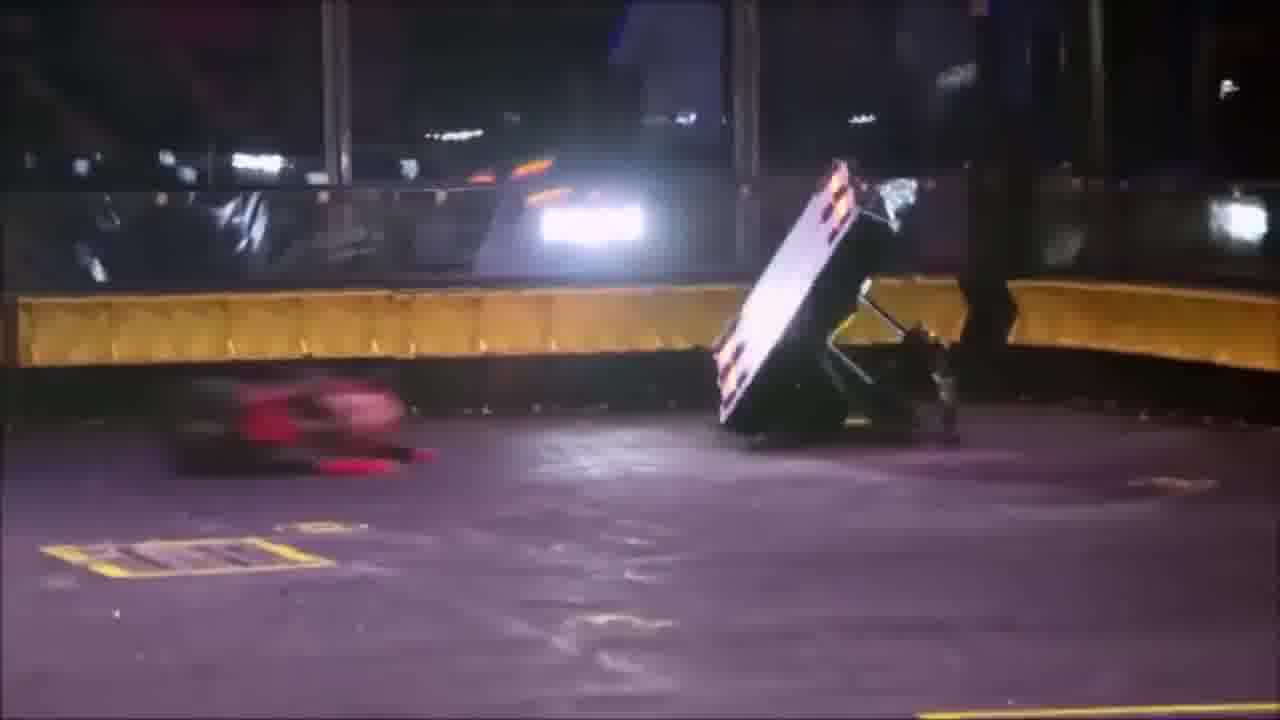combatbot: (708, 161, 905, 451), (165, 372, 417, 479)
